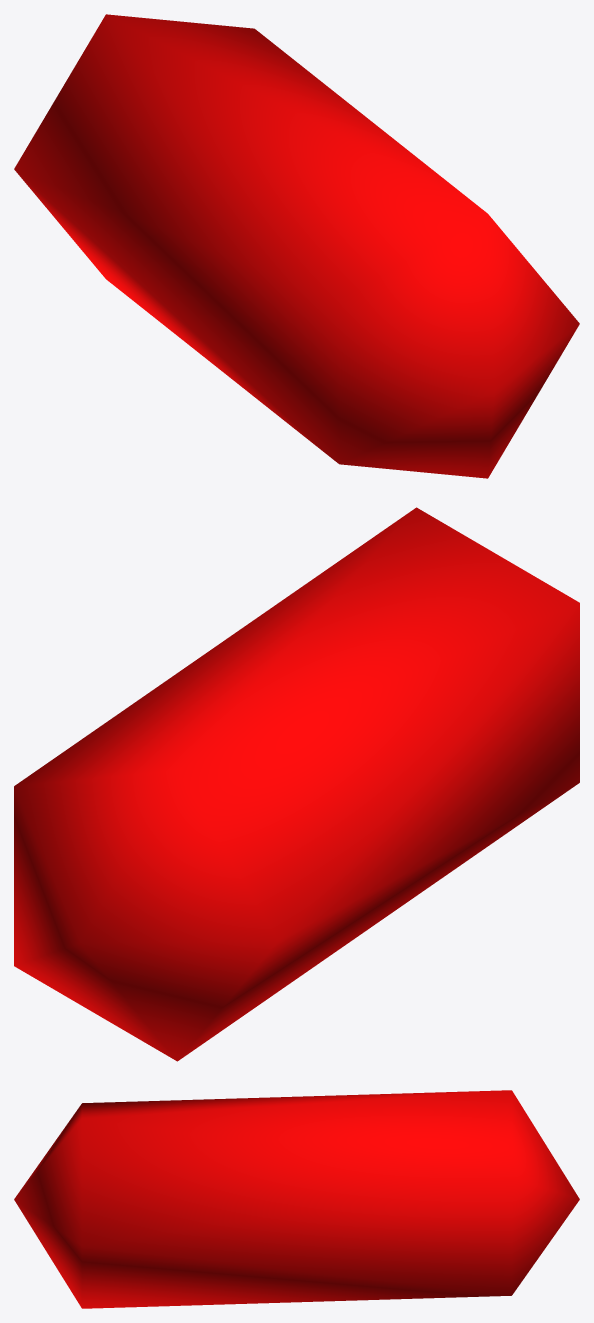
File: ecoli_low.glb
The picture shows the model from 3 angles, top to bottom: view 1: azimuth 30°, elevation 25°; view 2: azimuth 150°, elevation 25°; view 3: azimuth 270°, elevation 25°; orthographic projection. The views are drawn at different scales.
Parts seen in each view (by area): view 1: Icosphere; view 2: Icosphere; view 3: Icosphere.
Part boxes in pixels (x1,y1,x2,y2): Icosphere: [14, 14, 579, 478]; Icosphere: [14, 507, 579, 1061]; Icosphere: [14, 1090, 579, 1308].
Bounding box in the file's own units: 1.79 × 1.7 × 4.6.
